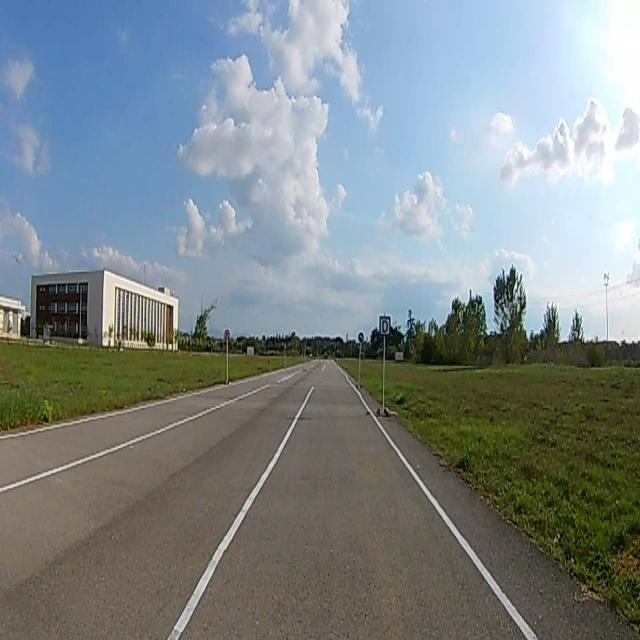durak: (378, 315, 392, 337)
